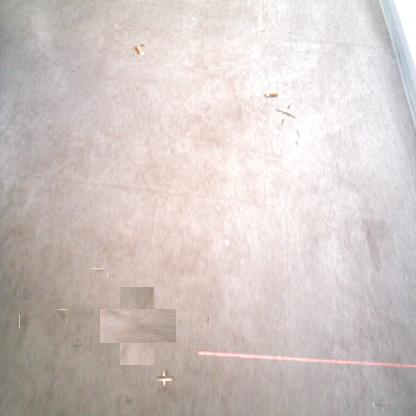dirty: (159, 372, 172, 385), (134, 45, 146, 55), (262, 91, 278, 98)
mark: (109, 298, 165, 354), (359, 218, 385, 272), (278, 106, 294, 123), (57, 309, 68, 324), (19, 287, 31, 299), (294, 128, 301, 146), (19, 314, 28, 328), (376, 399, 386, 410), (72, 339, 82, 349), (123, 396, 133, 405), (94, 266, 103, 276), (109, 272, 117, 279), (204, 315, 210, 323)
